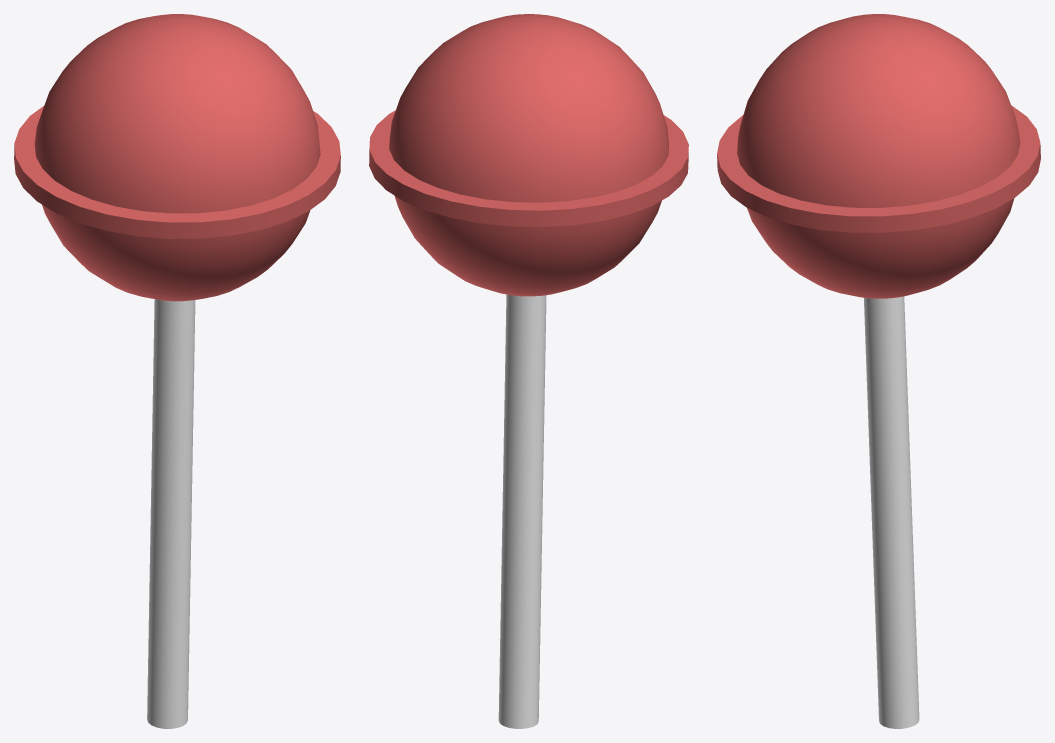
3 views of the same model, side by side, from view 1: azimuth 30°, elevation 25°; view 2: azimuth 150°, elevation 25°; view 3: azimuth 270°, elevation 25° (orthographic). The views are drawn at different scales.
Visible parts, largest first — view 1: Object001; view 2: Object001; view 3: Object001.
Boxes of the visible parts, <box> form: Object001: <box>14,14,340,728</box>; Object001: <box>369,14,688,728</box>; Object001: <box>717,14,1040,728</box>.
Bounding box in the file's own units: 2.91 × 6.89 × 2.91.
Materials: 1 (1 with a texture image).
